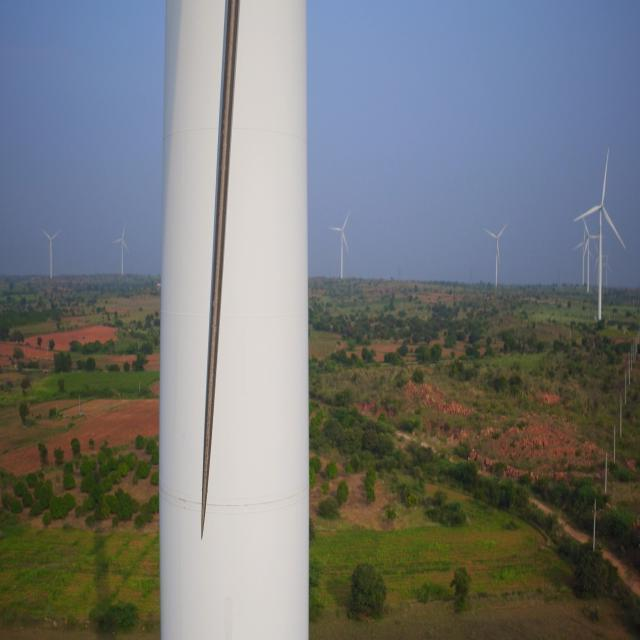Erosion: (196, 0, 246, 555)
